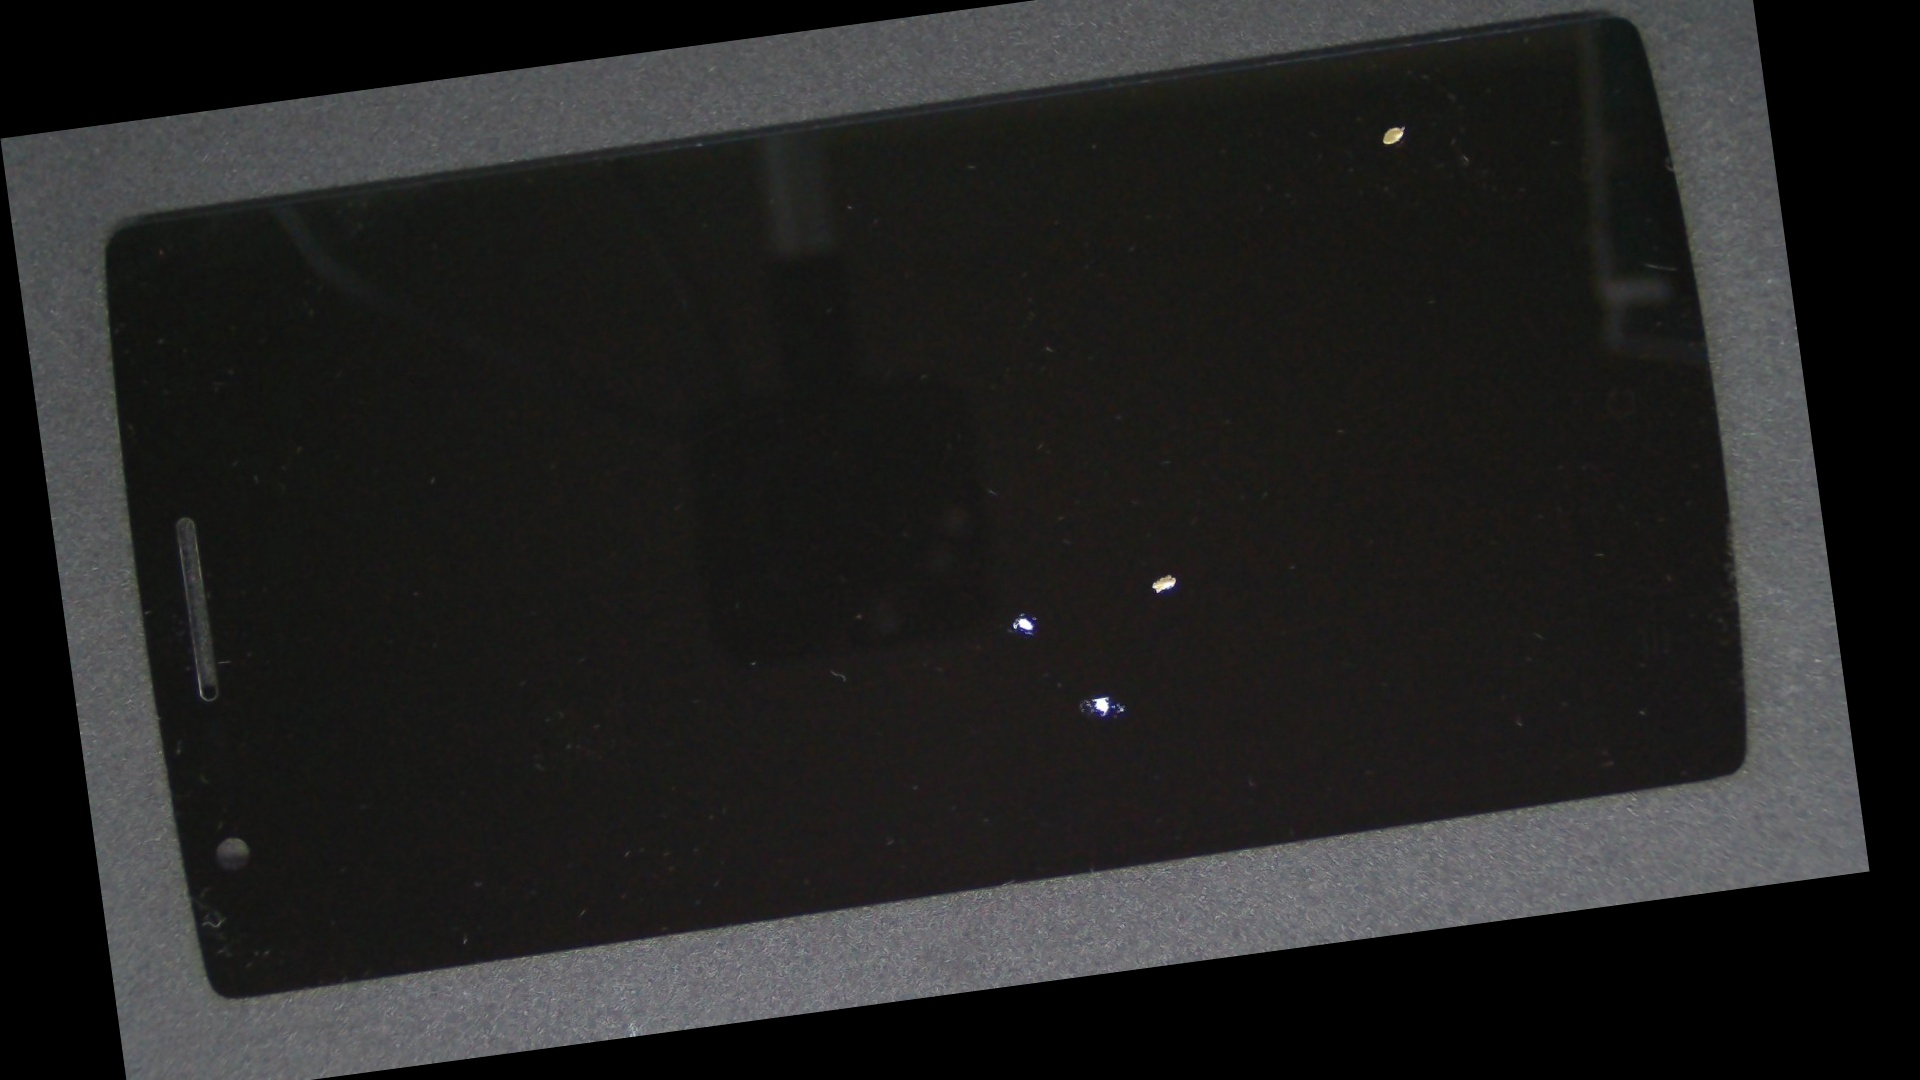oil: (584, 210, 1747, 938), (542, 285, 1611, 1038), (510, 249, 1527, 975), (695, 0, 1775, 303)
